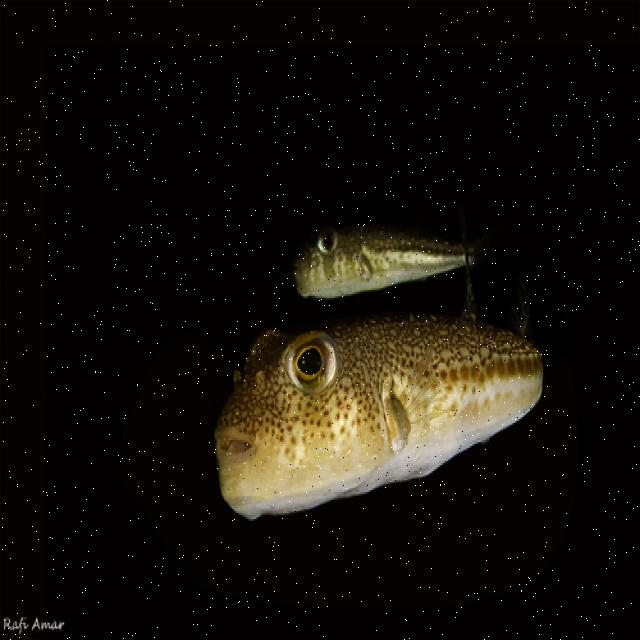Balik: (216, 314, 542, 518), (294, 225, 465, 297)
